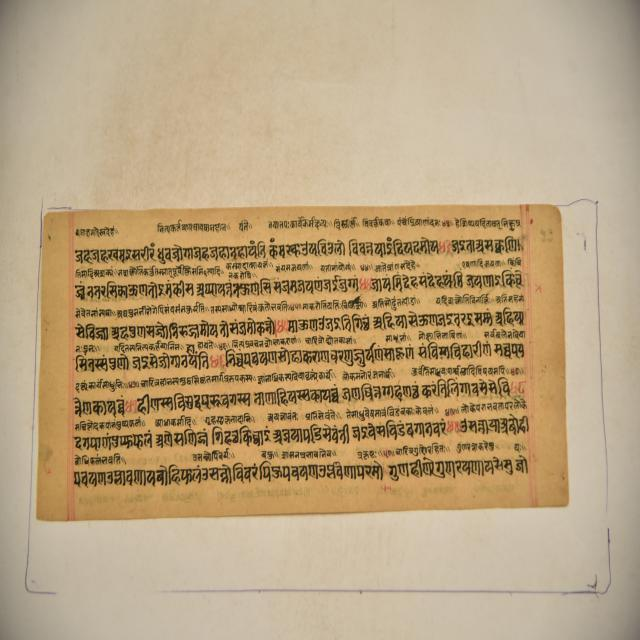text_paragraph: (36, 204, 569, 514)
